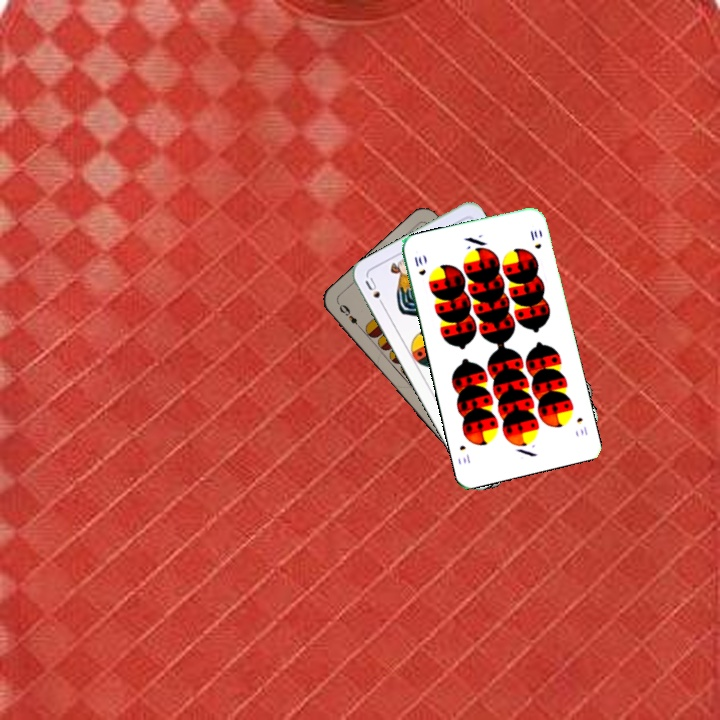E9: (334, 299, 365, 333)
S10: (410, 252, 428, 278), (573, 413, 590, 438)
SU: (361, 273, 388, 311)
